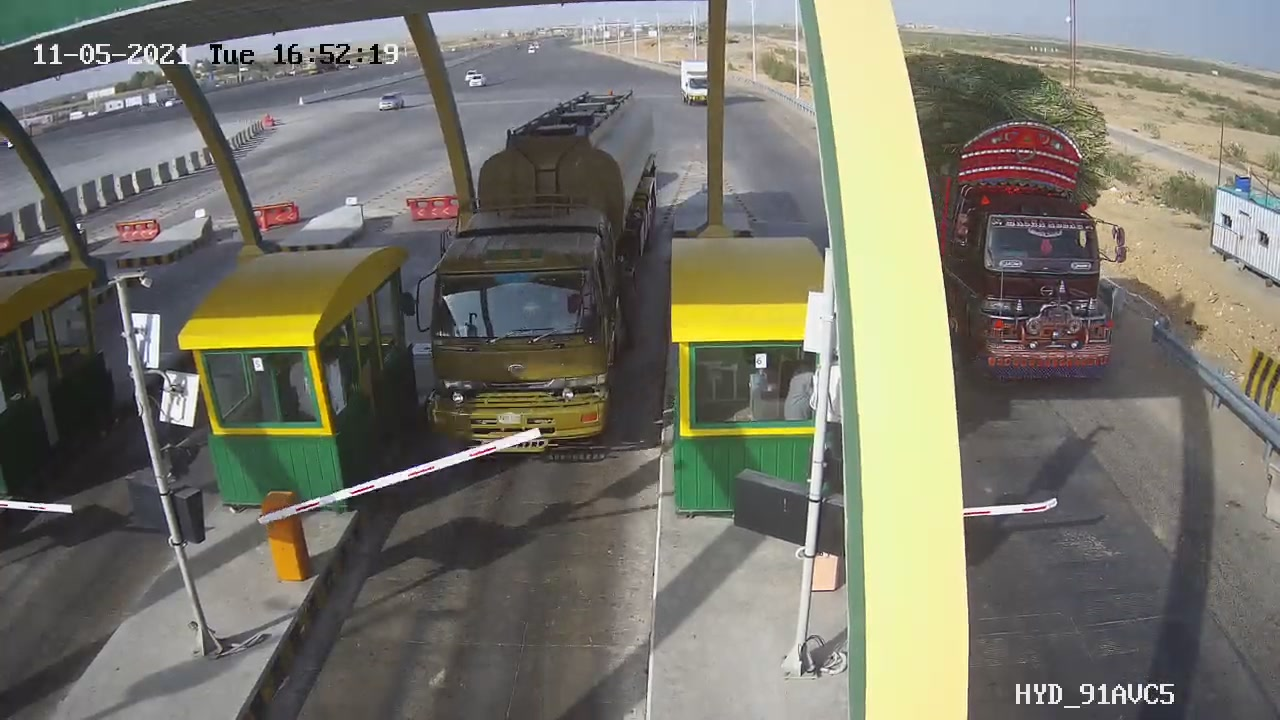F6: (385, 75, 676, 477)
